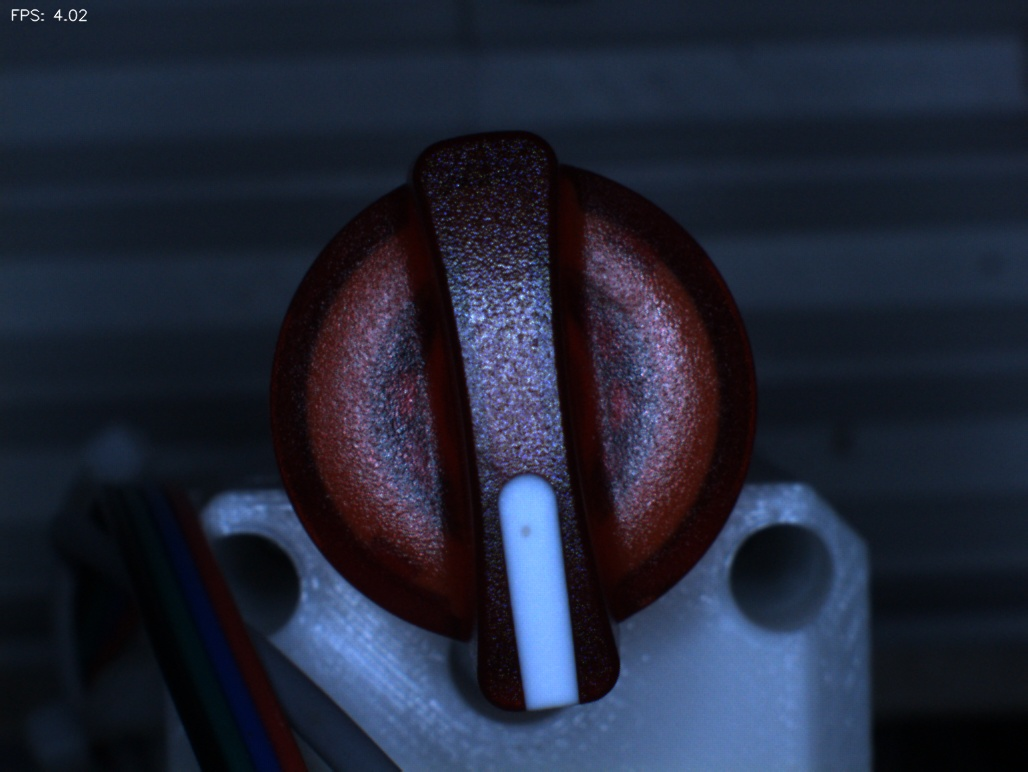PointNoir: (483, 481, 563, 563)
